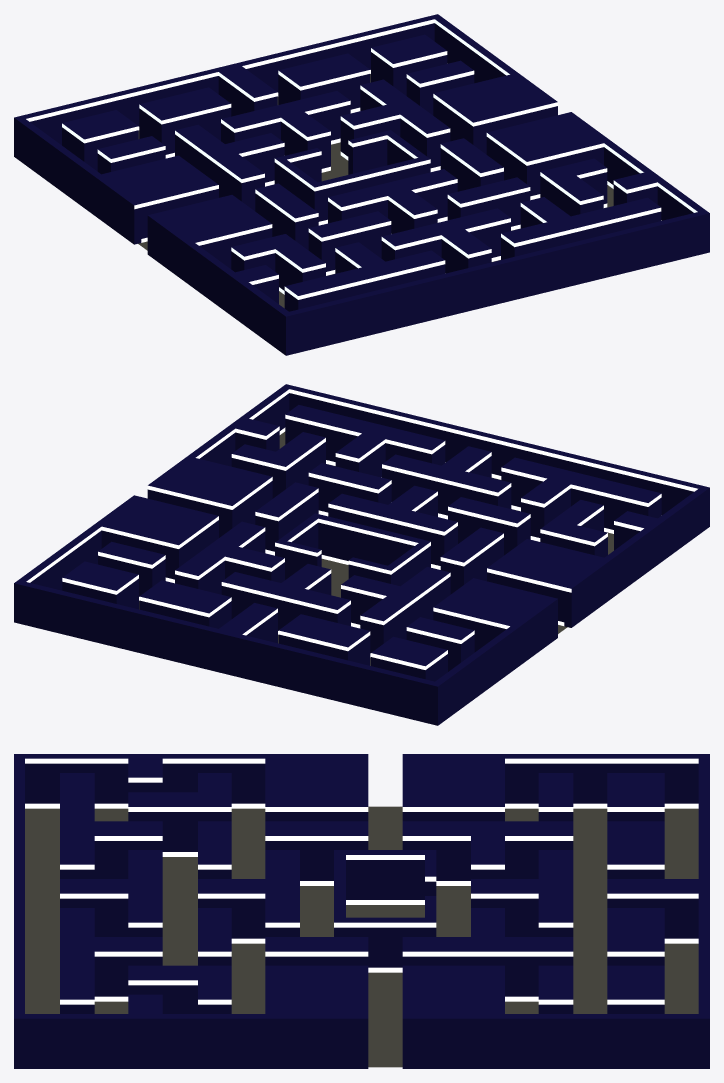
File: Map.fbx
3 views of the same model, one above another, from view 1: azimuth 30°, elevation 25°; view 2: azimuth 150°, elevation 25°; view 3: azimuth 270°, elevation 25° (orthographic). The views are drawn at different scales.
Parts seen in each view (by area): view 1: Wall, Floor; view 2: Wall, Floor; view 3: Wall, Floor.
Part boxes in pixels (bbox=[...]): Wall: bbox=[14, 14, 709, 355]; Floor: bbox=[138, 74, 613, 308]; Wall: bbox=[14, 384, 709, 725]; Floor: bbox=[139, 431, 613, 665]; Wall: bbox=[14, 754, 709, 1068]; Floor: bbox=[25, 806, 698, 1067].
Size of the model in its own units: 2264 by 200 by 2517.
